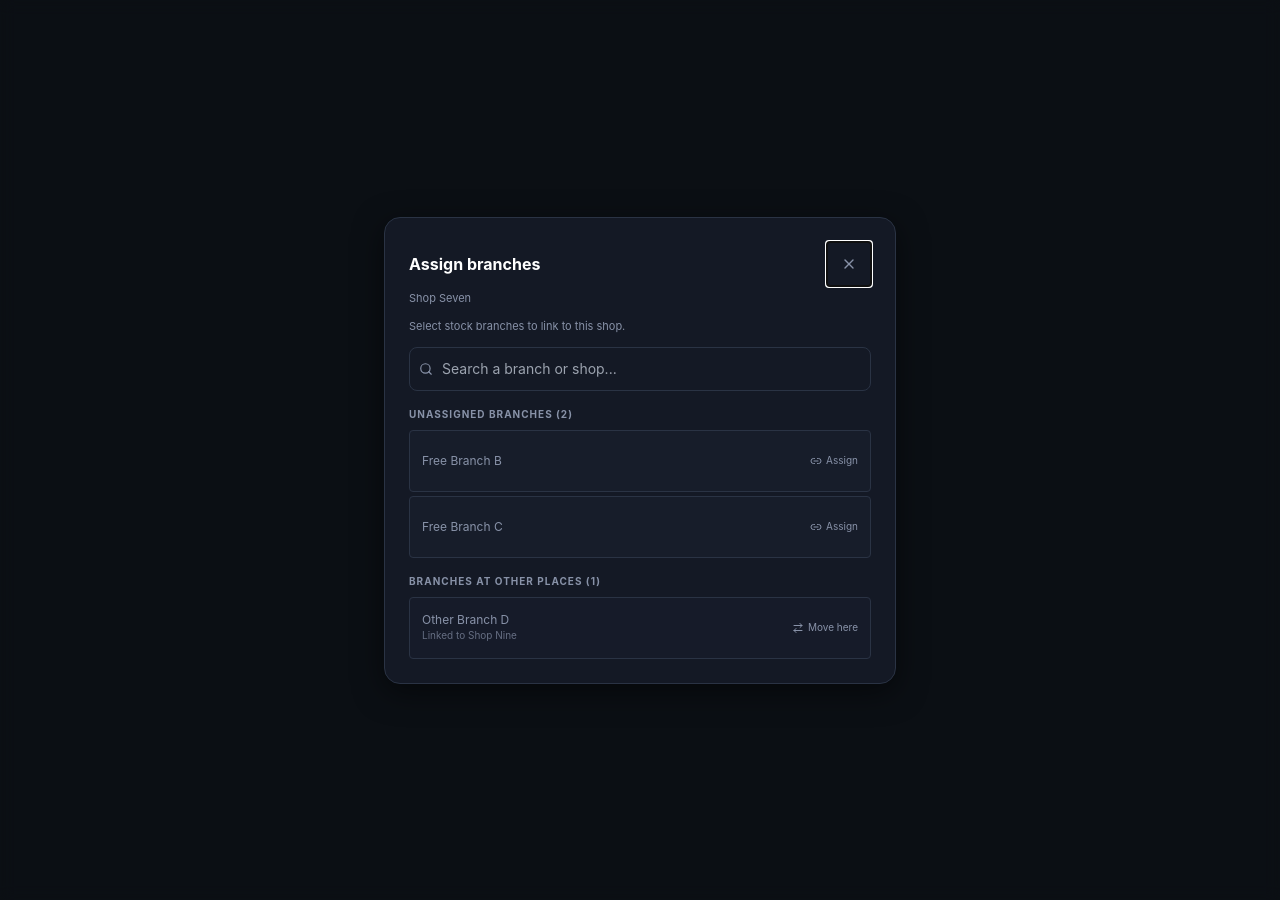
AssignProviderDialog branches › shows a no-match message in the other-places section when the search excludes its branches
This screenshot has width=1280, height=900.
Expected: the text "Other Branch D" is shown, [422,612,517,628]
Step 1. Type "Free Branch B" into the field labelled "Search a branch or shop..." → (640, 368), box [409,346,871,390]
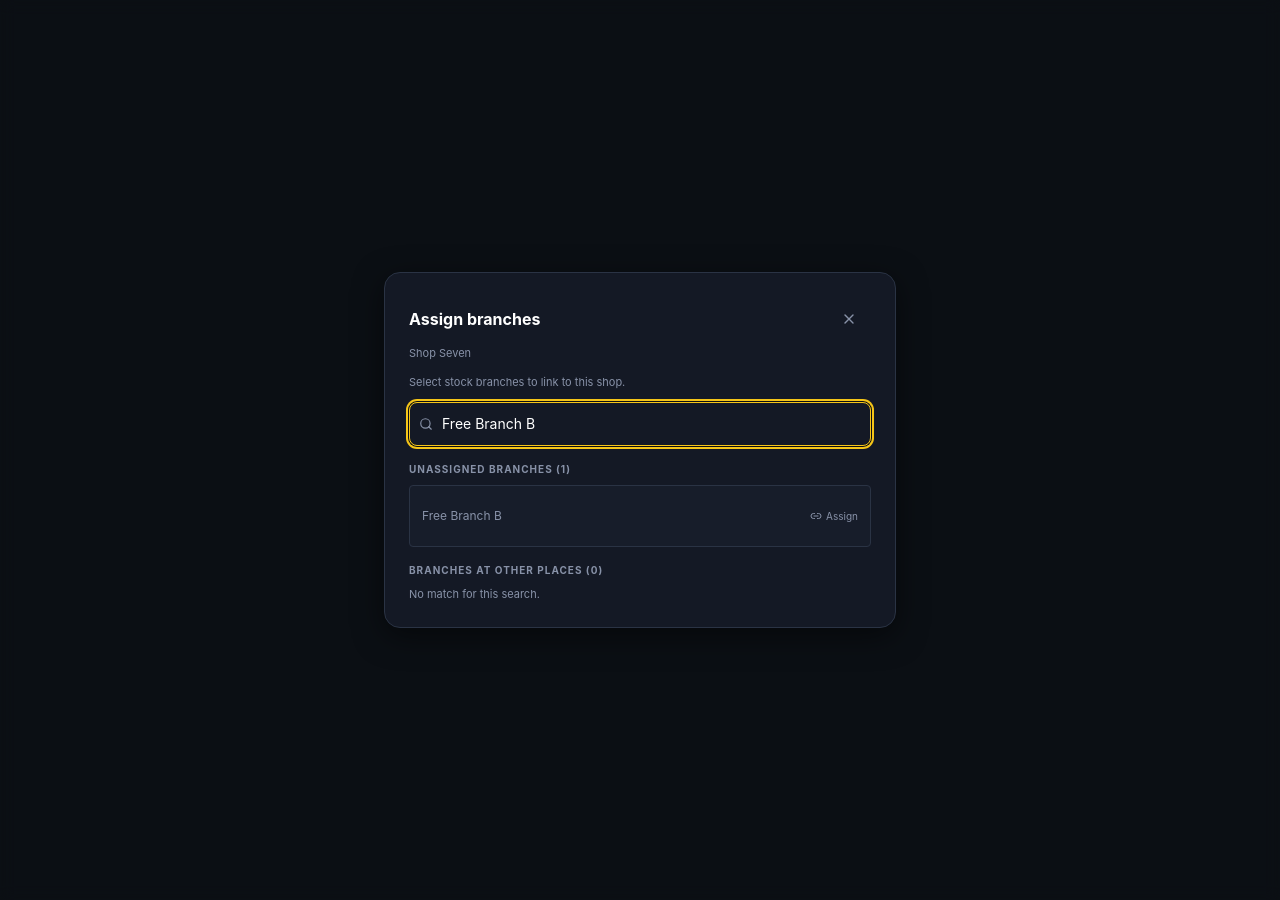
Expected: the text "Other Branch D" is gone
Expected: the text "No match for this search." is shown, [409,587,540,601]
